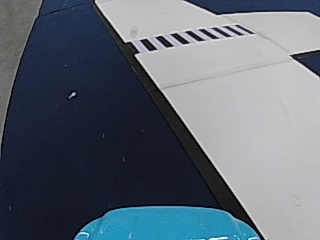CrossWalk: (134, 24, 250, 52)
